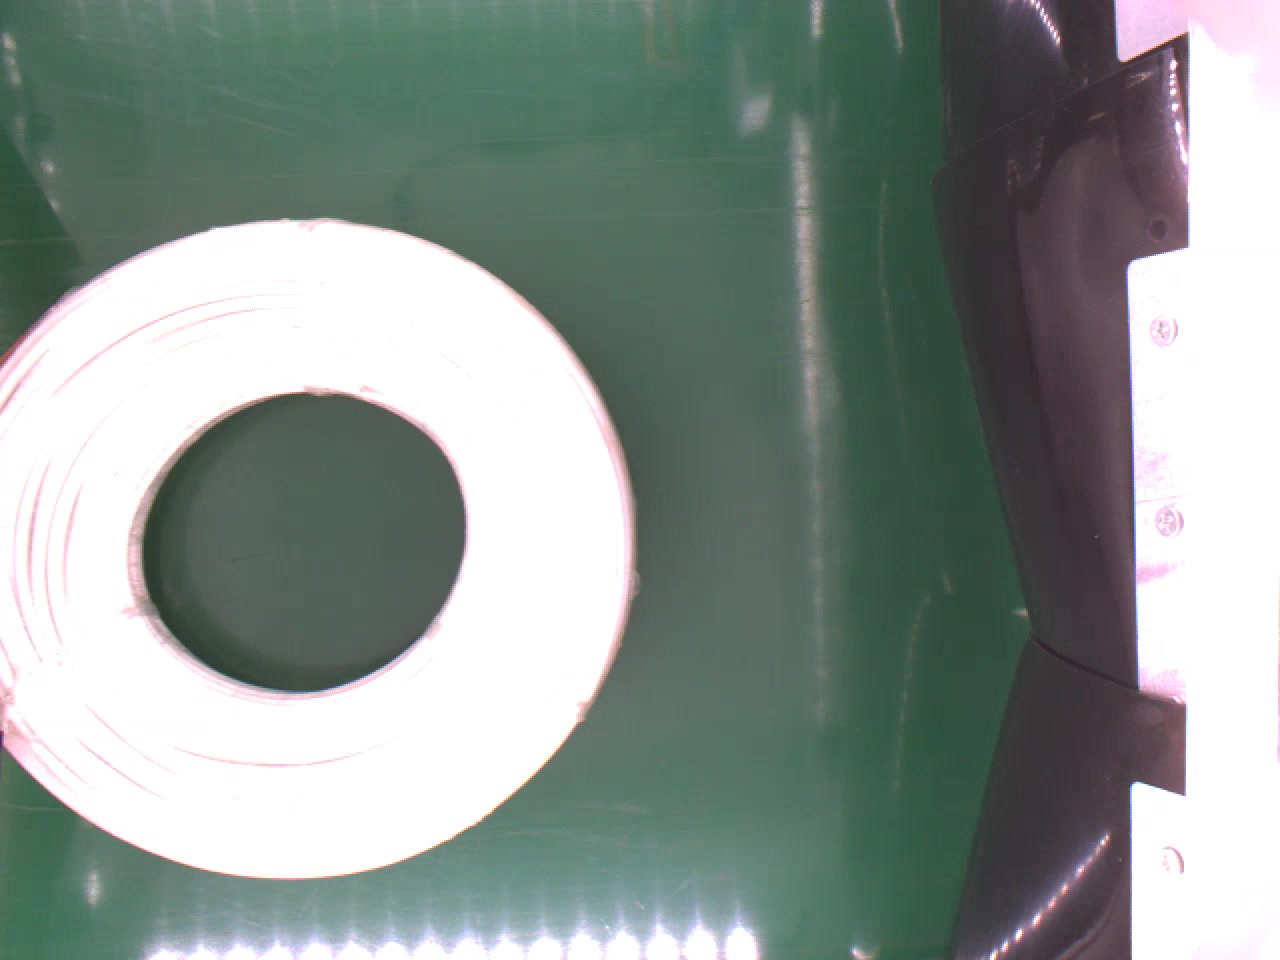white: (0, 211, 643, 883)
